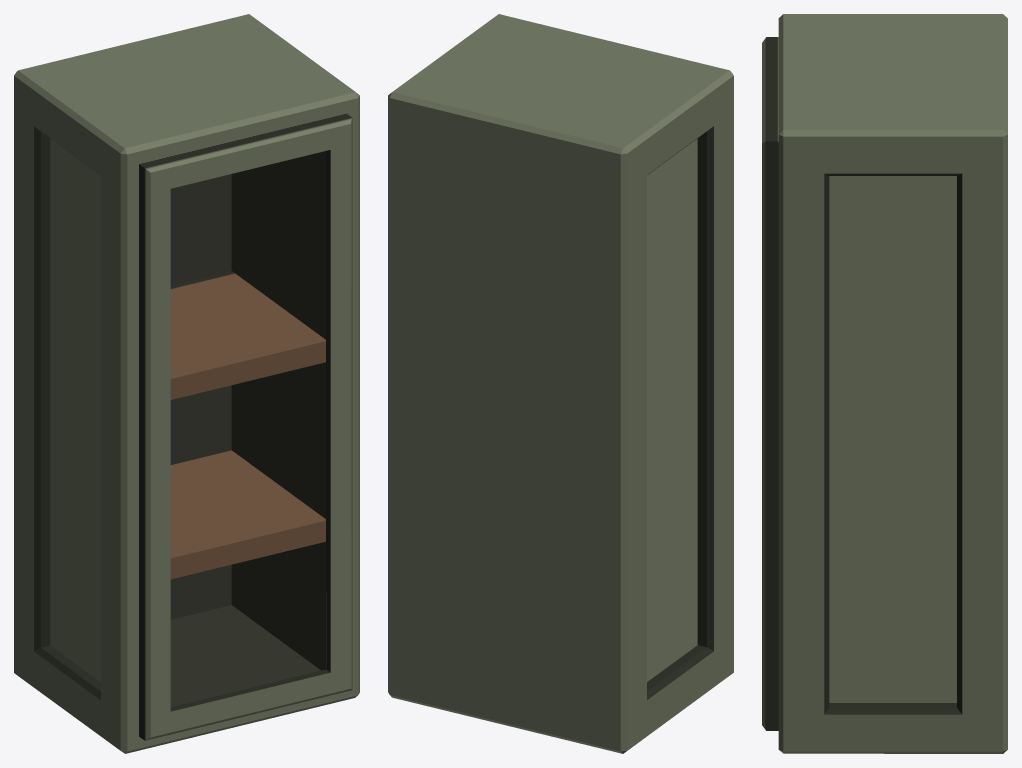
File: SingleHangingCabinetRight.obj
3 views of the same model, side by side, from view 1: azimuth 30°, elevation 25°; view 2: azimuth 150°, elevation 25°; view 3: azimuth 270°, elevation 25° (orthographic). The views are drawn at different scales.
Visible parts, largest first — view 1: Single_Hanging_Cabinet_R_Hanging_Cabinet; view 2: Single_Hanging_Cabinet_R_Hanging_Cabinet; view 3: Single_Hanging_Cabinet_R_Hanging_Cabinet.
Part boxes in pixels (box(x1,y1,x2,y2)): Single_Hanging_Cabinet_R_Hanging_Cabinet: box(14, 14, 359, 753); Single_Hanging_Cabinet_R_Hanging_Cabinet: box(388, 14, 733, 753); Single_Hanging_Cabinet_R_Hanging_Cabinet: box(762, 14, 1007, 753).
Size of the model in its own units: 0.62 by 1.5 by 0.5358.
1 material, 1 textured.
